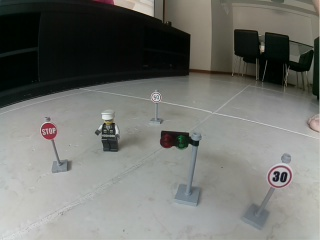Green Traffic Light: (160, 131, 204, 207)
Person: (95, 109, 120, 153)
Speed Limit 30: (265, 164, 293, 189)
Speed Limit 50: (151, 92, 161, 103)
Stop Sign: (40, 122, 58, 142)
